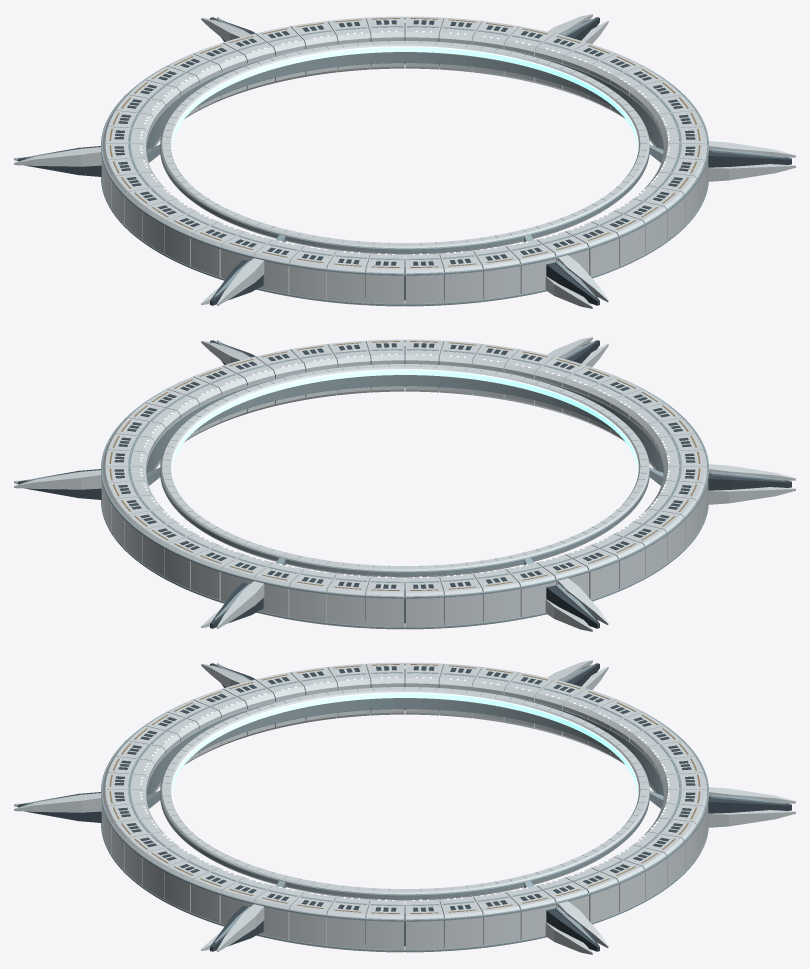
Rendered from humming_gate.glb.
The picture shows the model from 3 angles, top to bottom: view 1: azimuth 30°, elevation 25°; view 2: azimuth 150°, elevation 25°; view 3: azimuth 270°, elevation 25°; orthographic projection.
Parts seen in each view (by area): view 1: Main pale shell, InnerRing, Main face inlays, Crown pale shell, Main bore inlays, Main recessed panels, Crown structure, Main warm inserts, Crown inlays, Main segment lights; view 2: Main pale shell, InnerRing, Main face inlays, Crown pale shell, Main bore inlays, Main recessed panels, Crown structure, Main warm inserts, Crown inlays, Main segment lights; view 3: Main pale shell, InnerRing, Main face inlays, Crown pale shell, Main bore inlays, Main recessed panels, Crown structure, Main warm inserts, Crown inlays, Main segment lights.
Boxes of the visible parts, x1=… form: Main pale shell: x1=101, y1=16, x2=708, y2=306; InnerRing: x1=160, y1=41, x2=649, y2=254; Main face inlays: x1=101, y1=17, x2=708, y2=305; Crown pale shell: x1=14, y1=14, x2=795, y2=308; Main bore inlays: x1=146, y1=41, x2=663, y2=153; Main recessed panels: x1=114, y1=20, x2=695, y2=265; Crown structure: x1=18, y1=17, x2=791, y2=305; Main warm inserts: x1=109, y1=18, x2=700, y2=267; Crown inlays: x1=25, y1=18, x2=784, y2=297; Main segment lights: x1=140, y1=30, x2=669, y2=254; Main pale shell: x1=101, y1=339, x2=708, y2=629; InnerRing: x1=160, y1=364, x2=649, y2=577; Main face inlays: x1=101, y1=340, x2=708, y2=628; Crown pale shell: x1=14, y1=337, x2=795, y2=631; Main bore inlays: x1=146, y1=364, x2=663, y2=476; Main recessed panels: x1=114, y1=343, x2=695, y2=588; Crown structure: x1=18, y1=340, x2=791, y2=628; Main warm inserts: x1=109, y1=341, x2=700, y2=590; Crown inlays: x1=25, y1=341, x2=784, y2=620; Main segment lights: x1=140, y1=353, x2=669, y2=577; Main pale shell: x1=101, y1=662, x2=708, y2=952; InnerRing: x1=160, y1=687, x2=649, y2=900; Main face inlays: x1=101, y1=663, x2=708, y2=951; Crown pale shell: x1=14, y1=660, x2=795, y2=954; Main bore inlays: x1=146, y1=687, x2=663, y2=799; Main recessed panels: x1=114, y1=666, x2=695, y2=911; Crown structure: x1=18, y1=663, x2=791, y2=951; Main warm inserts: x1=109, y1=664, x2=700, y2=913; Crown inlays: x1=25, y1=664, x2=784, y2=943; Main segment lights: x1=140, y1=676, x2=669, y2=900.
Size of the model in its own units: 1357 by 81.8 by 1546.
